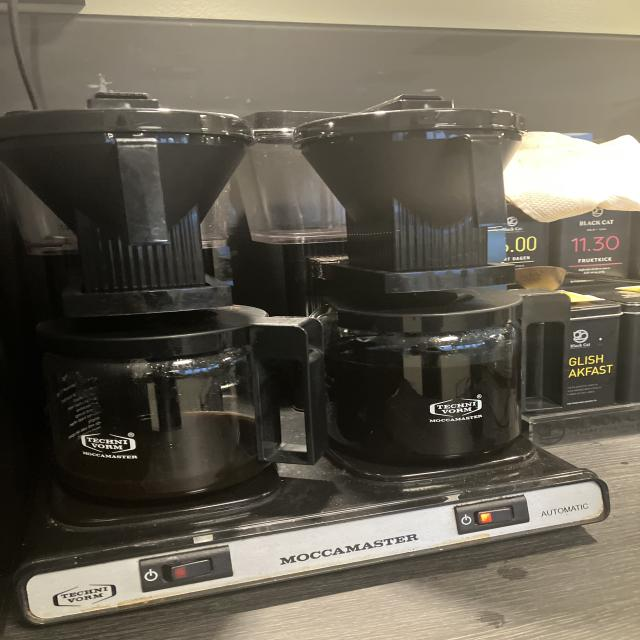coffee: (8, 294, 287, 516), (294, 291, 545, 474)
